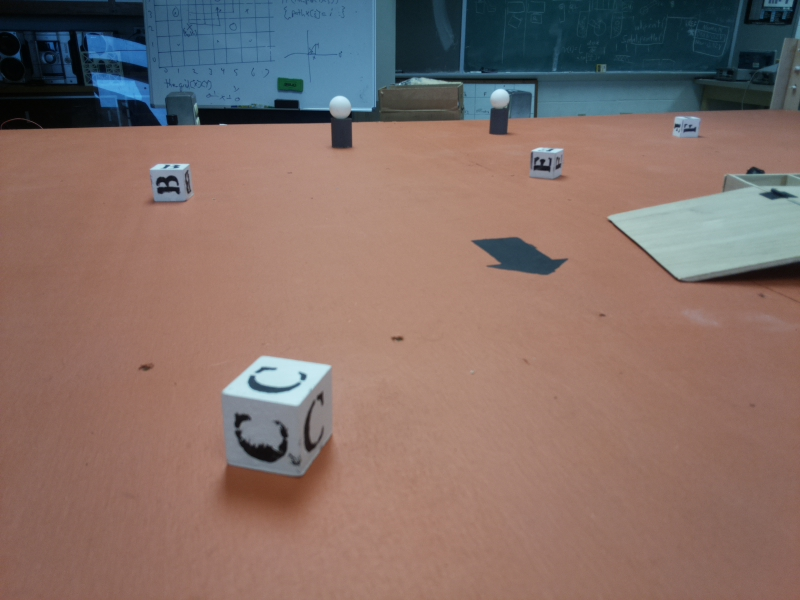blockB: (146, 159, 198, 209)
blockC: (222, 353, 339, 478)
blockE: (526, 145, 570, 183)
blockF: (670, 114, 702, 143)
corner: (778, 39, 800, 113)
obstacle: (325, 94, 358, 152), (485, 85, 513, 138)
slope: (603, 184, 800, 285)
start: (471, 230, 567, 283)
